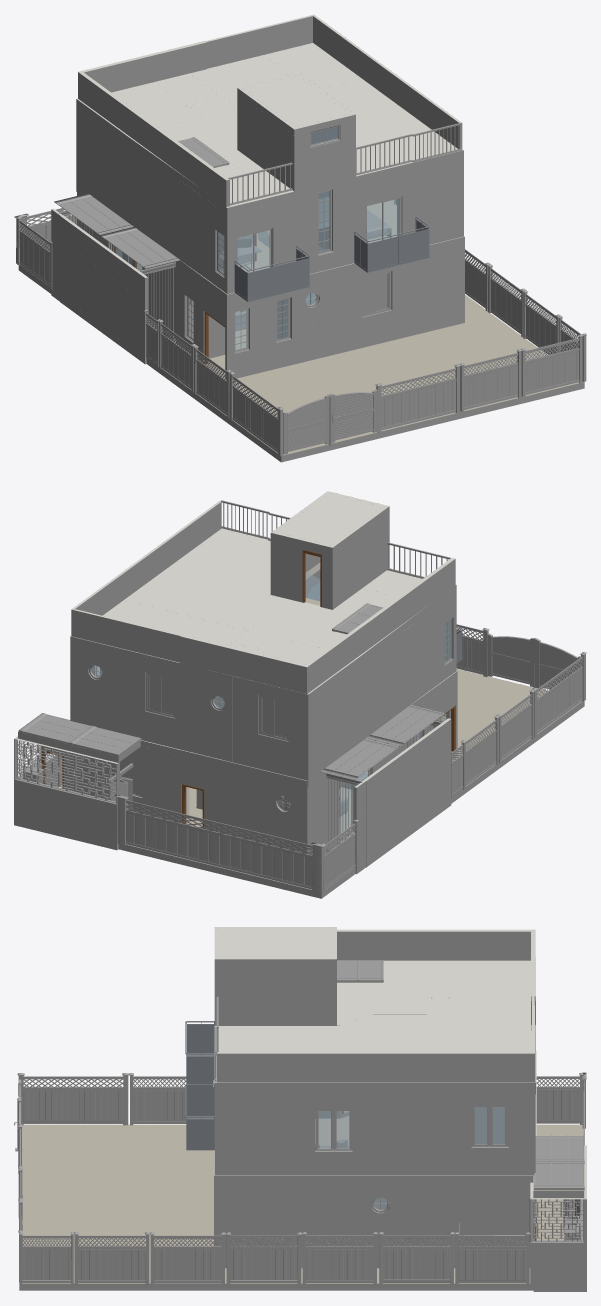
The model's file is home.glb.
3 renders of one model, top to bottom at view 1: azimuth 30°, elevation 25°; view 2: azimuth 150°, elevation 25°; view 3: azimuth 270°, elevation 25°, orthographic. The views are drawn at different scales.
Parts seen in each view (by area): view 1: other, wall, floor, balcony, glass; view 2: other, wall, floor, glass, door; view 3: other, wall, floor, balcony, glass.
Boxes of the visible parts, x1,y1,x2,y2 form: other: (14, 16, 586, 462); wall: (51, 14, 464, 336); floor: (21, 200, 583, 455); balcony: (234, 216, 429, 301); glass: (113, 127, 398, 349); other: (14, 500, 586, 898); wall: (14, 491, 456, 824); floor: (18, 563, 581, 889); glass: (91, 571, 450, 834); door: (41, 550, 454, 828); other: (14, 931, 586, 1291); wall: (214, 927, 586, 1240); floor: (19, 1111, 583, 1283); balcony: (185, 1021, 214, 1150); glass: (318, 1107, 505, 1209).
Bounding box in the file's own units: 12.43 × 9.26 × 18.57.
